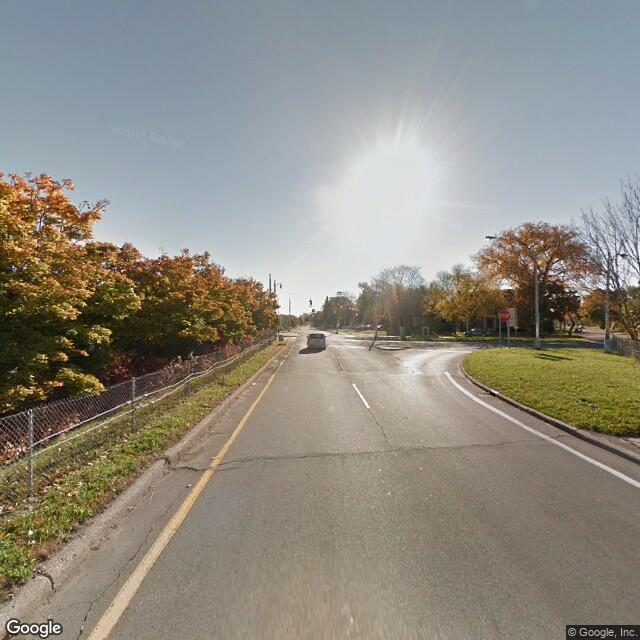litter: (10, 496, 38, 511), (68, 480, 85, 498), (24, 528, 35, 548), (86, 457, 106, 465), (118, 434, 127, 446)
